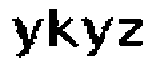k: (45, 6, 79, 52)
y: (79, 13, 115, 57), (9, 15, 44, 59)
z: (116, 14, 147, 54)
